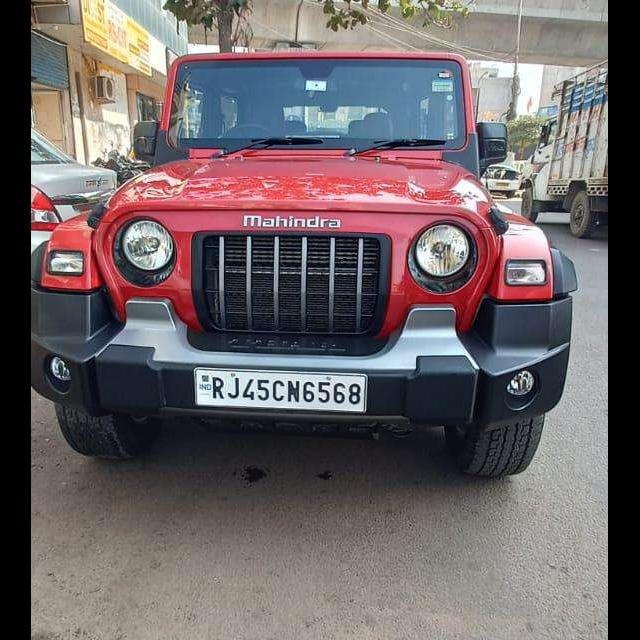Indian_Number_Plate: (197, 369, 371, 410)
